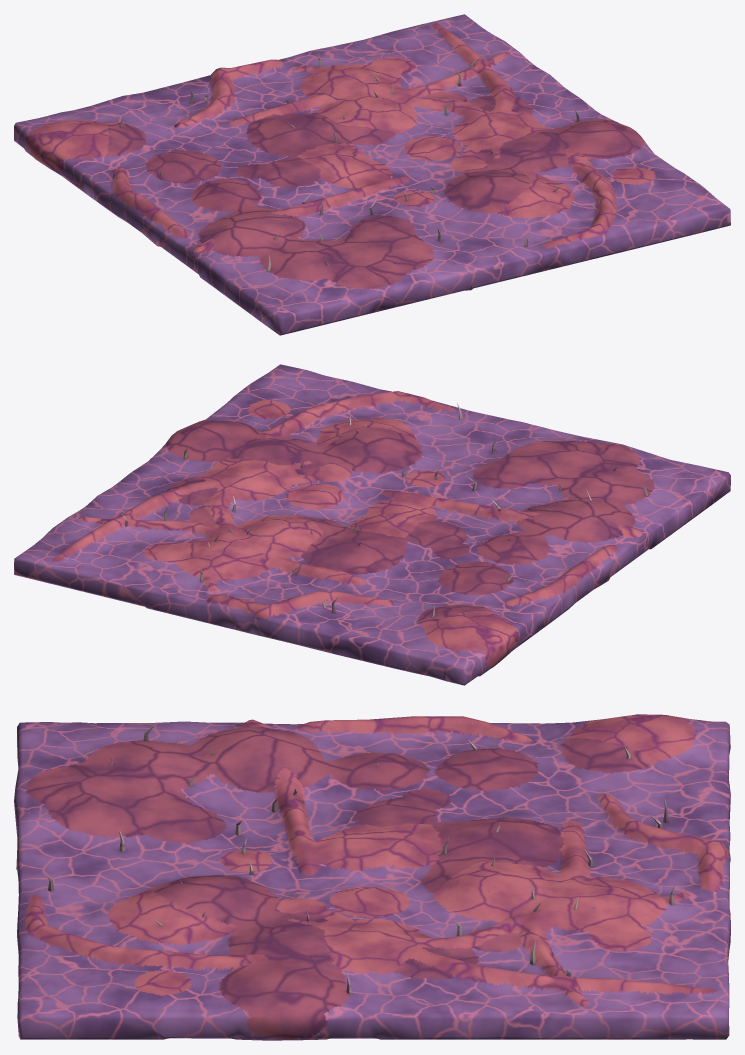
Rendered from cesped_alien_monstruo.fbx.
The picture shows the model from 3 angles, top to bottom: view 1: azimuth 30°, elevation 25°; view 2: azimuth 150°, elevation 25°; view 3: azimuth 270°, elevation 25°; orthographic projection. The views are drawn at different scales.
Visible parts, largest first — view 1: placa; view 2: placa; view 3: placa.
Boxes of the visible parts, x1,y1,x2,y2 form: placa: (14,14,730,335); placa: (14,364,730,685); placa: (14,714,730,1040).
Bounding box in the file's own units: 8.01 × 0.6006 × 8.01.
Materials: 1 (1 with a texture image).
